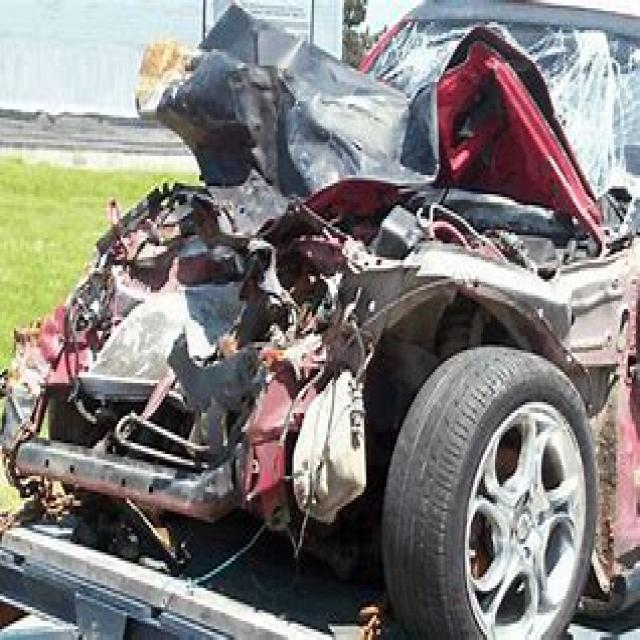Accident: (51, 32, 640, 602)
